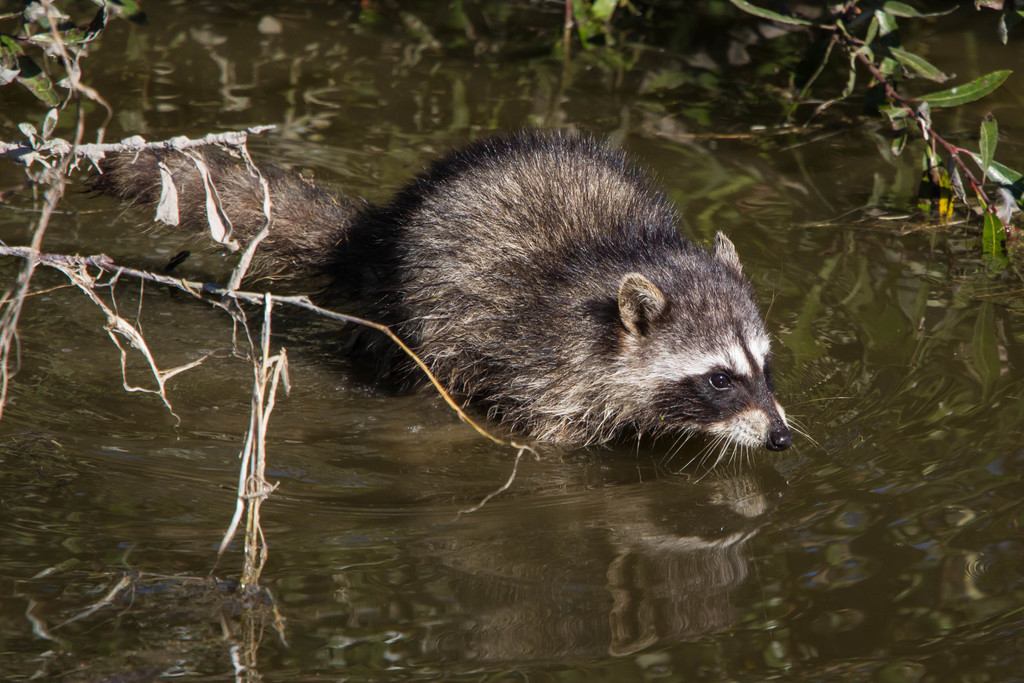raccoon: (102, 130, 795, 456)
